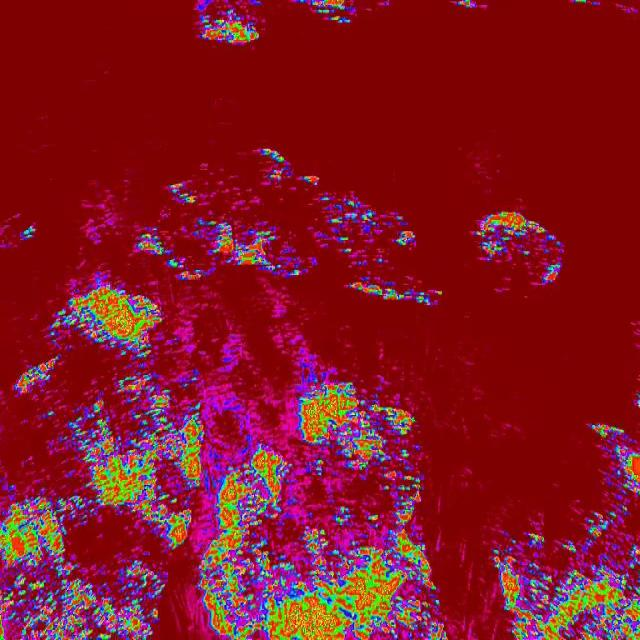fire: (0, 352, 418, 640), (128, 152, 444, 309), (497, 526, 640, 640), (48, 265, 170, 356), (471, 207, 572, 295), (589, 411, 640, 527), (170, 312, 312, 352), (195, 0, 263, 50), (418, 544, 448, 640), (297, 0, 358, 25)
